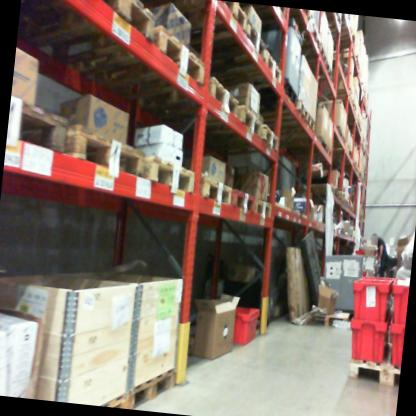pallet: (30, 0, 154, 81), (101, 23, 207, 115), (67, 115, 151, 183), (8, 102, 72, 151), (213, 20, 269, 63), (129, 363, 178, 412), (231, 48, 284, 90), (145, 157, 195, 199), (204, 75, 239, 135), (348, 353, 399, 387), (233, 105, 264, 144), (306, 304, 349, 332), (199, 177, 234, 210), (265, 81, 299, 113), (214, 3, 247, 34), (230, 186, 257, 215), (277, 101, 311, 123), (261, 125, 280, 154), (291, 115, 315, 131), (254, 198, 271, 220), (104, 394, 130, 406)
small_load_carrier: (217, 299, 266, 362), (342, 313, 391, 366), (347, 271, 396, 320), (390, 271, 409, 325), (385, 322, 404, 373)
